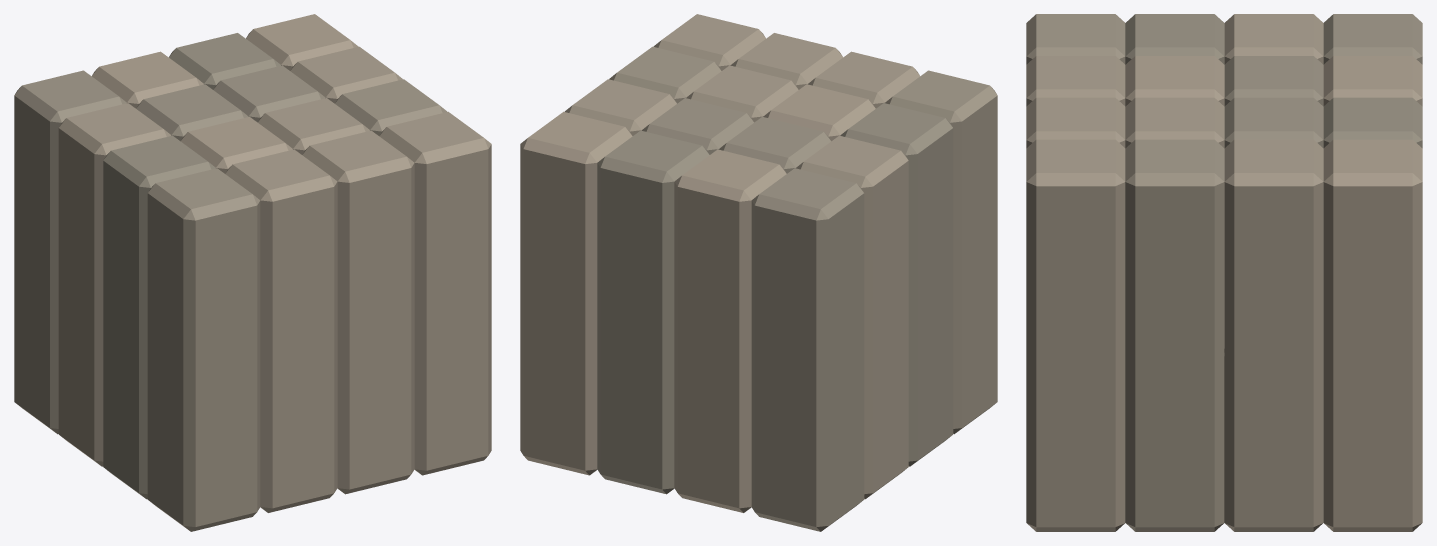
File: NaturalRock.fbx
3 renders of one model, left to right at view 1: azimuth 30°, elevation 25°; view 2: azimuth 150°, elevation 25°; view 3: azimuth 270°, elevation 25°, orthographic. The views are drawn at different scales.
Visible parts, largest first — view 1: Fractured stone mass.003, Fractured stone mass.007, Fractured stone mass.015, Fractured stone mass.011, Fractured stone mass.001, Fractured stone mass.002, Fractured stone mass, Fractured stone mass.006, Fractured stone mass.009, Fractured stone mass.005, Fractured stone mass.004, Fractured stone mass.012 (+4 smaller); view 2: Fractured stone mass, Fractured stone mass.004, Fractured stone mass.012, Fractured stone mass.008, Fractured stone mass.002, Fractured stone mass.001, Fractured stone mass.003, Fractured stone mass.005, Fractured stone mass.010, Fractured stone mass.006, Fractured stone mass.007, Fractured stone mass.013 (+4 smaller); view 3: Fractured stone mass.013, Fractured stone mass.014, Fractured stone mass.012, Fractured stone mass.015, Fractured stone mass.008, Fractured stone mass.010, Fractured stone mass.011, Fractured stone mass.009, Fractured stone mass.001, Fractured stone mass.002, Fractured stone mass, Fractured stone mass.003 (+4 smaller).
Part boxes in pixels (x1,y1,x2,y2): Fractured stone mass.003: (147, 168, 260, 531); Fractured stone mass.007: (225, 149, 337, 512); Fractured stone mass.015: (379, 111, 491, 475); Fractured stone mass.011: (302, 130, 414, 494); Fractured stone mass.001: (58, 103, 171, 466); Fractured stone mass.002: (103, 135, 215, 499); Fractured stone mass: (14, 70, 126, 434); Fractured stone mass.006: (180, 117, 292, 173); Fractured stone mass.009: (213, 65, 325, 122); Fractured stone mass.005: (136, 84, 248, 140); Fractured stone mass.004: (92, 51, 203, 108); Fractured stone mass.012: (246, 14, 358, 70); Fractured stone mass: (751, 168, 864, 531); Fractured stone mass.004: (674, 149, 786, 512); Fractured stone mass.012: (520, 111, 632, 475); Fractured stone mass.008: (597, 130, 709, 494); Fractured stone mass.002: (840, 103, 953, 466); Fractured stone mass.001: (796, 135, 908, 499); Fractured stone mass.003: (885, 70, 997, 434); Fractured stone mass.005: (719, 117, 831, 173); Fractured stone mass.010: (686, 65, 798, 122); Fractured stone mass.006: (763, 84, 875, 140); Fractured stone mass.007: (808, 51, 919, 108); Fractured stone mass.013: (564, 79, 676, 135); Fractured stone mass.013: (1224, 139, 1323, 531); Fractured stone mass.014: (1125, 139, 1224, 531); Fractured stone mass.012: (1323, 139, 1422, 531); Fractured stone mass.015: (1026, 139, 1125, 531); Fractured stone mass.008: (1323, 97, 1422, 148); Fractured stone mass.010: (1125, 97, 1224, 148); Fractured stone mass.011: (1026, 97, 1125, 148); Fractured stone mass.009: (1224, 97, 1323, 148); Fractured stone mass.001: (1224, 14, 1323, 64); Fractured stone mass.002: (1125, 14, 1224, 64); Fractured stone mass: (1323, 14, 1422, 64); Fractured stone mass.003: (1026, 14, 1125, 64).
Size of the model in its own units: 1 by 1 by 1.
